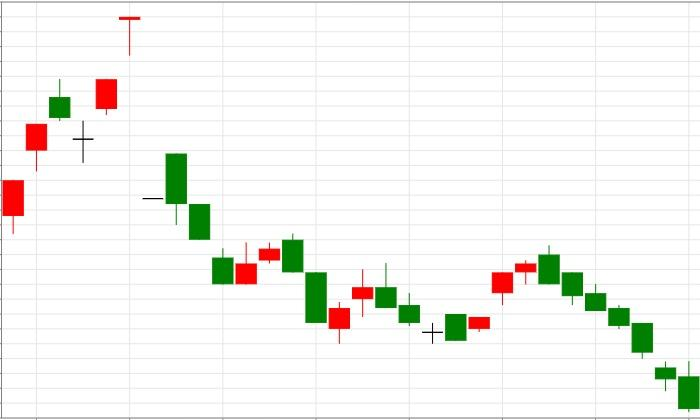bearish_engulfing_fall: (444, 245, 561, 341)
bullish_engulfing_rise: (119, 16, 257, 285)
